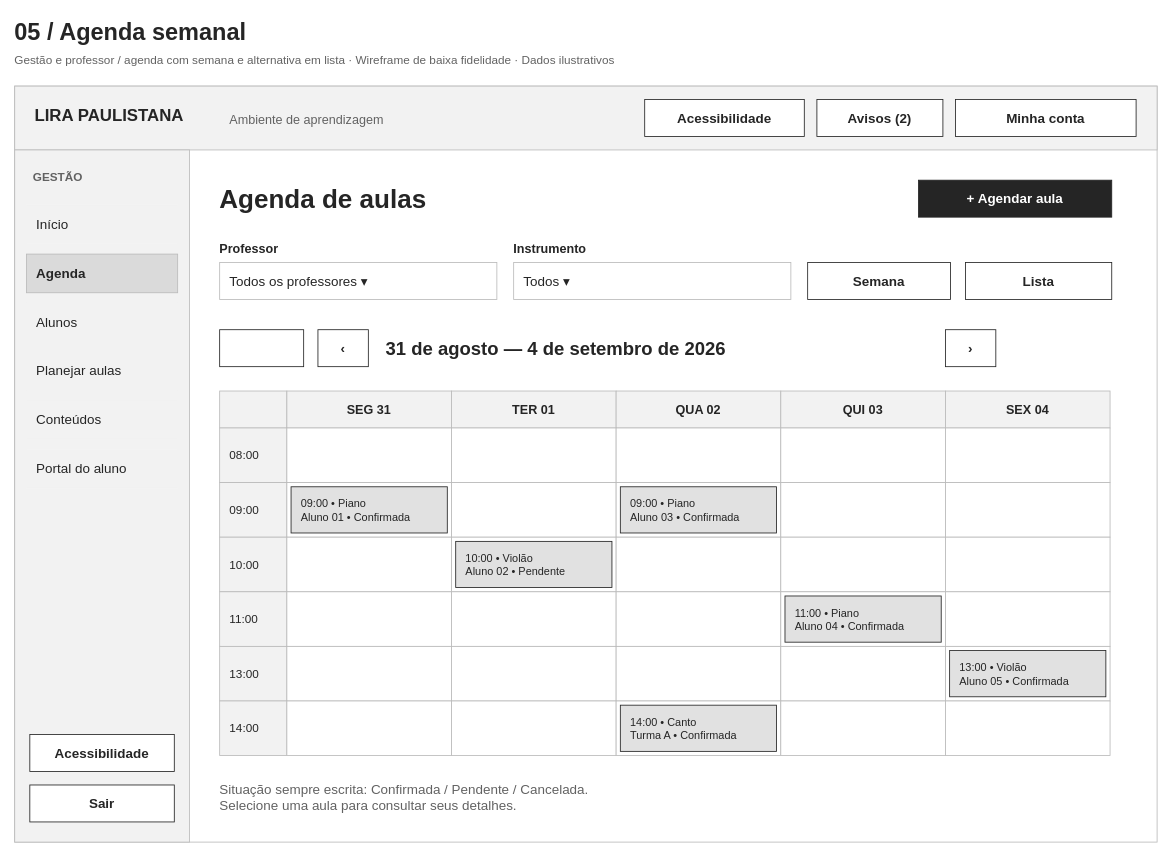
Image size: 1172x857. Some labels were removed from this diagram. Here are the shapes that lost their labels. From the top down, the centre of each, then its label:
[261,348]: Hoje
[253,409]: Hora
